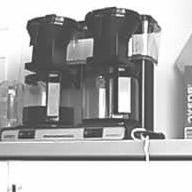empty coffee: (78, 62, 142, 128)
